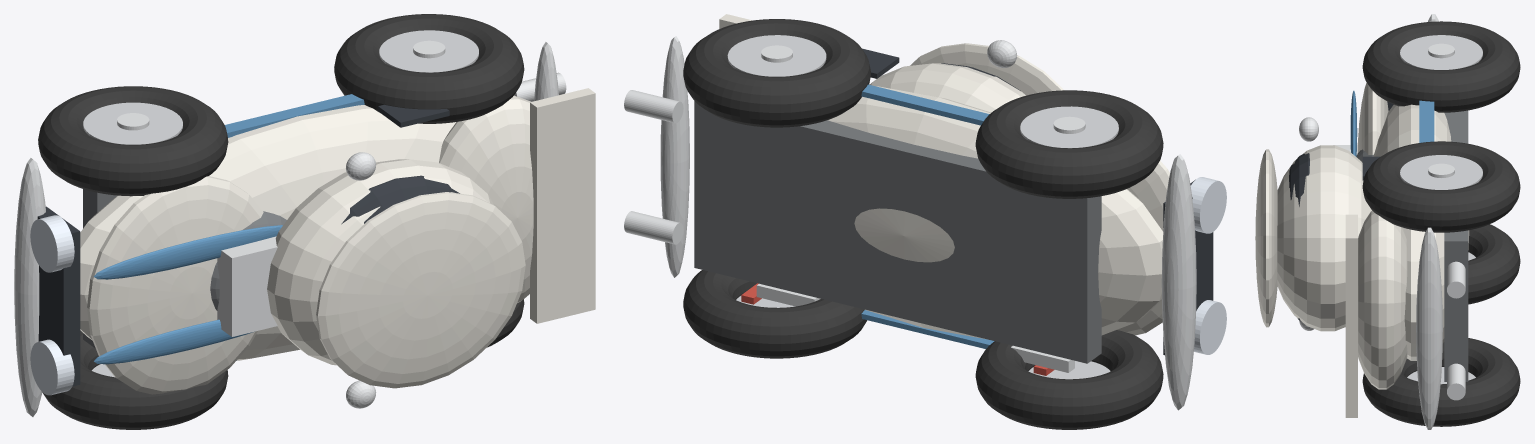
File: white_car.glb
3 renders of one model, left to right at view 1: azimuth 30°, elevation 25°; view 2: azimuth 150°, elevation 25°; view 3: azimuth 270°, elevation 25°, orthographic. The views are drawn at different scales.
Visible parts, largest first — view 1: Roof_Skin, Hood, Body_Main, Rear_Aero_Lip, FrontWheel_R, RearWheel_R, Cabin, Rear_Quarter, FrontWheel_L, Front_Bumper, Engine_Intake, Front_Grille (+14 smaller); view 2: Chassis, Body_Main, FrontWheel_R, RearWheel_R, FrontWheel_L, RearWheel_L, Front_Bumper, Rear_Bumper, Cabin, RearRim_R, FrontRim_R, Roof_Skin (+13 smaller); view 3: Cabin, RearWheel_R, FrontWheel_R, Rear_Quarter, RearWheel_L, Rear_Bumper, Body_Main, Chassis, Roof_Skin, FrontWheel_L, Rear_Aero_Lip, FrontRim_R (+10 smaller).
Part boxes in pixels (bbox=[...]): Roof_Skin: bbox=[316, 192, 525, 388]; Hood: bbox=[87, 176, 263, 394]; Body_Main: bbox=[80, 105, 455, 360]; Rear_Aero_Lip: bbox=[530, 88, 595, 323]; FrontWheel_R: bbox=[38, 86, 228, 196]; RearWheel_R: bbox=[334, 14, 524, 123]; Cabin: bbox=[267, 159, 493, 365]; Rear_Quarter: bbox=[439, 95, 533, 303]; FrontWheel_L: bbox=[42, 330, 228, 429]; Front_Bumper: bbox=[14, 158, 45, 416]; Engine_Intake: bbox=[217, 236, 277, 336]; Front_Grille: bbox=[37, 206, 80, 386]; Chassis: bbox=[694, 101, 1101, 363]; Body_Main: bbox=[828, 86, 1163, 338]; FrontWheel_R: bbox=[975, 90, 1163, 198]; RearWheel_R: bbox=[683, 19, 870, 127]; FrontWheel_L: bbox=[975, 330, 1163, 429]; RearWheel_L: bbox=[683, 270, 866, 358]; Front_Bumper: bbox=[1161, 154, 1196, 410]; Rear_Bumper: bbox=[660, 36, 689, 277]; Cabin: bbox=[869, 63, 1025, 112]; RearRim_R: bbox=[727, 35, 826, 76]; FrontRim_R: bbox=[1020, 106, 1118, 148]; Roof_Skin: bbox=[910, 43, 1064, 95]; Cabin: bbox=[1277, 145, 1371, 331]; RearWheel_R: bbox=[1362, 141, 1520, 232]; FrontWheel_R: bbox=[1362, 21, 1520, 112]; Rear_Quarter: bbox=[1358, 210, 1407, 389]; RearWheel_L: bbox=[1362, 338, 1520, 426]; Rear_Bumper: bbox=[1416, 227, 1442, 429]; Body_Main: bbox=[1373, 104, 1469, 360]; Chassis: bbox=[1444, 110, 1468, 381]; Roof_Skin: bbox=[1255, 149, 1277, 327]; FrontWheel_L: bbox=[1468, 224, 1520, 304]; Rear_Aero_Lip: bbox=[1345, 214, 1357, 417]; FrontRim_R: bbox=[1400, 35, 1482, 69].
Bounding box in the file's own units: 3.99 × 1.92 × 1.98.
